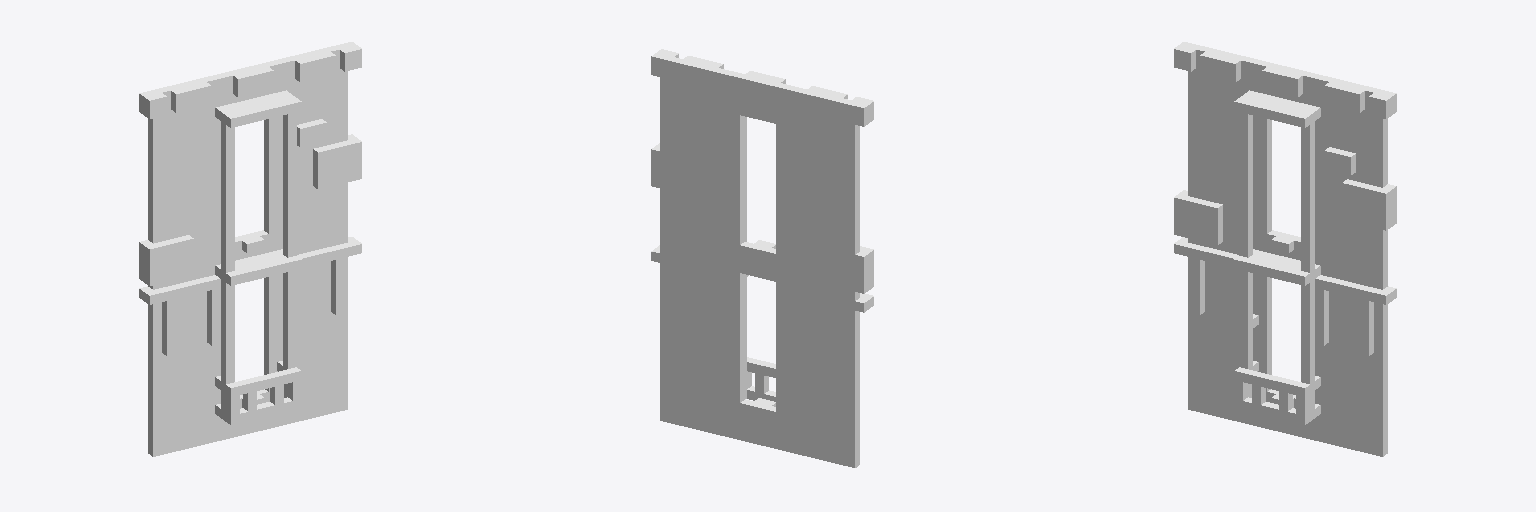
Rendered from SmallBuilding01-2.obj.
The picture shows the model from 3 angles: view 1: azimuth 30°, elevation 25°; view 2: azimuth 150°, elevation 25°; view 3: azimuth 330°, elevation 25°; orthographic projection.
Visible parts, largest first — view 1: object 1; view 2: object 1; view 3: object 1.
Part boxes in pixels (bbox=[...]): object 1: bbox=[139, 42, 361, 456]; object 1: bbox=[651, 49, 873, 467]; object 1: bbox=[1174, 42, 1396, 456].
Bounding box in the file's own units: 2.4 × 3.9 × 0.4.